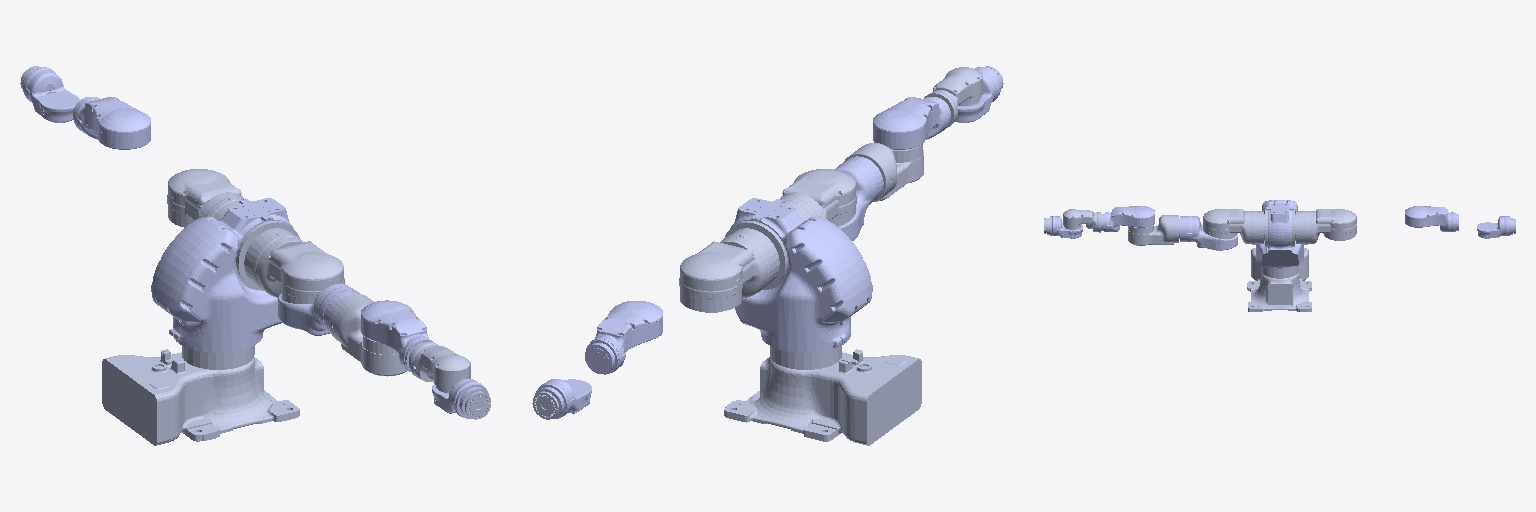
robot.urdf — motoman_sda20d:
<robot
  name="motoman_sda20d">
  <link
    name="base_link">
    <inertial>
      <origin
        xyz="-0.10775 -4.7555E-05 0.10955"
        rpy="0 0 0" />
      <mass
        value="29.711" />
      <inertia
        ixx="0.37202"
        ixy="-0.00060974"
        ixz="-0.024001"
        iyy="0.77862"
        iyz="4.9206E-05"
        izz="0.84078" />
    </inertial>
    <visual>
      <origin
        xyz="0 0 0"
        rpy="0 0 0" />
      <geometry>
        <mesh
          filename="package://motoman_sda20d_support/meshes/base_link.STL" />
      </geometry>
      <material
        name="">
        <color
          rgba="0.79216 0.81961 0.93333 1" />
      </material>
    </visual>
    <collision>
      <origin
        xyz="0 0 0"
        rpy="0 0 0" />
      <geometry>
        <mesh
          filename="package://motoman_sda20d_support/meshes/base_link.STL" />
      </geometry>
    </collision>
  </link>
  <link
    name="torso_link_b1">
    <inertial>
      <origin
        xyz="0.026706 1.1222E-05 0.19713"
        rpy="0 0 0" />
      <mass
        value="36.439" />
      <inertia
        ixx="0.62924"
        ixy="7.5604E-05"
        ixz="-0.065715"
        iyy="0.97273"
        iyz="7.3187E-05"
        izz="0.67513" />
    </inertial>
    <visual>
      <origin
        xyz="0 0 0"
        rpy="0 0 0" />
      <geometry>
        <mesh
          filename="package://motoman_sda20d_support/meshes/torso_link_b1.STL" />
      </geometry>
      <material
        name="">
        <color
          rgba="0.79216 0.81961 1 1" />
      </material>
    </visual>
    <collision>
      <origin
        xyz="0 0 0"
        rpy="0 0 0" />
      <geometry>
        <mesh
          filename="package://motoman_sda20d_support/meshes/torso_link_b1.STL" />
      </geometry>
    </collision>
  </link>
  <joint
    name="torso_joint_b1"
    type="revolute">
    <origin
      xyz="0 0 0.2765"
      rpy="0 0 0" />
    <parent
      link="base_link" />
    <child
      link="torso_link_b1" />
    <axis
      xyz="0 0 1" />
    <limit effort="0" lower="-2.9670" upper="2.9670" velocity="2.4434"/>
  </joint>
  <link
    name="torso_link_b2">
    <inertial>
      <origin

        xyz="0.026706 1.1222E-05 0.19713"

        rpy="0 0 0" />
      <mass

        value="36.439" />
      <inertia

        ixx="0.62924"

        ixy="7.5604E-05"

        ixz="-0.065715"

        iyy="0.97273"

        iyz="7.3187E-05"

        izz="0.67513" />
    </inertial>
    <visual>
      <origin

        xyz="0 0 0"

        rpy="0 0 0" />
      <geometry>
        <mesh

          filename="package://motoman_sda20d_support/meshes/torso_link_b1.STL" />
      </geometry>
      <material

        name="">
        <color

          rgba="0.79216 0.81961 1 1" />
      </material>
    </visual>
    <collision>
      <origin

        xyz="0 0 0"

        rpy="0 0 0" />
      <geometry>
        <mesh
          filename="package://motoman_sda20d_support/meshes/torso_link_b1.STL" />
      </geometry>
    </collision>
  </link>
  <joint
    name="torso_joint_b2"
    type="revolute">
    <origin
      xyz="0 0 0.2765"
      rpy="0 0 0" />
    <parent
      link="base_link" />
    <child
      link="torso_link_b2" />
    <axis
      xyz="0 0 1" />
    <limit effort="0" lower="-2.9670" upper="2.9670" velocity="2.4434"/>
    <mimic joint="torso_joint_b1" multiplier="1" offset="0"/>
  </joint>
  <link
    name="arm_left_link_1_s">
    <inertial>
      <origin
        xyz="-4.4465E-06 0.014517 -0.19101"
        rpy="0 0 0" />
      <mass
        value="12.738" />
      <inertia
        ixx="0.22105"
        ixy="1.8397E-06"
        ixz="-7.8564E-06"
        iyy="0.22442"
        iyz="0.016414"
        izz="0.069643" />
    </inertial>
    <visual>
      <origin
        xyz="0 0 0"
        rpy="0 0 0" />
      <geometry>
        <mesh
          filename="package://motoman_sda20d_support/meshes/arm_left_link_1_s.STL" />
      </geometry>
      <material
        name="">
        <color
          rgba="0.79216 0.81961 0.93333 1" />
      </material>
    </visual>
    <collision>
      <origin
        xyz="0 0 0"
        rpy="0 0 0" />
      <geometry>
        <mesh
          filename="package://motoman_sda20d_support/meshes/arm_left_link_1_s.STL" />
      </geometry>
    </collision>
  </link>
  <joint
    name="arm_left_joint_1_s"
    type="revolute">
    <origin
      xyz="0.149999999999999 0.075 0.2984"
      rpy="1.5707963267949 0 0" />
    <parent
      link="torso_link_b1" />
    <child
      link="arm_left_link_1_s" />
    <axis
      xyz="0 0 1" />
    <limit effort="0" lower="-2.9670" upper="2.9670" velocity="2.4434"/>
  </joint>
  <link
    name="arm_left_link_2_l">
    <inertial>
      <origin
        xyz="0.099179 2.1877E-05 0.0070227"
        rpy="0 0 0" />
      <mass
        value="6.6303" />
      <inertia
        ixx="0.034667"
        ixy="-7.854E-06"
        ixz="-0.0228"
        iyy="0.089109"
        iyz="-5.3344E-06"
        izz="0.091218" />
    </inertial>
    <visual>
      <origin
        xyz="0 0 0"
        rpy="0 0 0" />
      <geometry>
        <mesh
          filename="package://motoman_sda20d_support/meshes/arm_left_link_2_l.STL" />
      </geometry>
      <material
        name="">
        <color
          rgba="0.79216 0.81961 1 1" />
      </material>
    </visual>
    <collision>
      <origin
        xyz="0 0 0"
        rpy="0 0 0" />
      <geometry>
        <mesh
          filename="package://motoman_sda20d_support/meshes/arm_left_link_2_l.STL" />
      </geometry>
    </collision>
  </link>
  <joint
    name="arm_left_joint_2_l"
    type="revolute">
    <origin
      xyz="0 -0.0571 -0.3145"
      rpy="-1.5707963267949 1.5707963267949 0" />
    <parent
      link="arm_left_link_1_s" />
    <child
      link="arm_left_link_2_l" />
    <axis
      xyz="0 0 1" />
    <limit effort="0" lower="-2.9670" upper="2.9670" velocity="2.4434"/>
  </joint>
  <link
    name="arm_left_link_3_e">
    <inertial>
      <origin
        xyz="-2.2325E-06 -0.017232 -0.15134"
        rpy="0 0 0" />
      <mass
        value="7.0076" />
      <inertia
        ixx="0.077721"
        ixy="-1.9693E-08"
        ixz="3.9327E-07"
        iyy="0.075759"
        iyz="-0.0060104"
        izz="0.027096" />
    </inertial>
    <visual>
      <origin
        xyz="0 0 0"
        rpy="0 0 0" />
      <geometry>
        <mesh
          filename="package://motoman_sda20d_support/meshes/arm_left_link_3_e.STL" />
      </geometry>
      <material
        name="">
        <color
          rgba="0.79216 0.81961 0.93333 1" />
      </material>
    </visual>
    <collision>
      <origin
        xyz="0 0 0"
        rpy="0 0 0" />
      <geometry>
        <mesh
          filename="package://motoman_sda20d_support/meshes/arm_left_link_3_e.STL" />
      </geometry>
    </collision>
  </link>
  <joint
    name="arm_left_joint_3_e"
    type="revolute">
    <origin
      xyz="0.2659 0 0.0487700000000001"
      rpy="-1.5707963267949 3.141592654 1.5707963267949" />
    <parent
      link="arm_left_link_2_l" />
    <child
      link="arm_left_link_3_e" />
    <axis
      xyz="0 0 -1" />
    <limit effort="0" lower="-2.9670" upper="2.9670" velocity="2.4434"/>
  </joint>
  <link
    name="arm_left_link_4_u">
    <inertial>
      <origin
        xyz="0.084741 -1.2964E-05 -0.031047"
        rpy="0 0 0" />
      <mass
        value="4.4681" />
      <inertia
        ixx="0.0122"
        ixy="1.1308E-05"
        ixz="-0.006865"
        iyy="0.048201"
        iyz="3.1167E-06"
        izz="0.049778" />
    </inertial>
    <visual>
      <origin
        xyz="0 0 0"
        rpy="0 0 0" />
      <geometry>
        <mesh
          filename="package://motoman_sda20d_support/meshes/arm_left_link_4_u.STL" />
      </geometry>
      <material
        name="">
        <color
          rgba="0.79216 0.81961 1 1" />
      </material>
    </visual>
    <collision>
      <origin
        xyz="0 0 0"
        rpy="0 0 0" />
      <geometry>
        <mesh
          filename="package://motoman_sda20d_support/meshes/arm_left_link_4_u.STL" />
      </geometry>
    </collision>
  </link>
  <joint
    name="arm_left_joint_4_u"
    type="revolute">
    <origin
      xyz="0 0.0494000000000001 -0.2441"
      rpy="1.5707963267949 1.5707963267949 0" />
    <parent
      link="arm_left_link_3_e" />
    <child
      link="arm_left_link_4_u" />
    <axis
      xyz="0 0 1" />
    <limit effort="0" lower="-2.9670" upper="2.9670" velocity="2.4434"/>
  </joint>
  <link
    name="arm_left_link_5_r">
    <inertial>
      <origin
        xyz="-2.7564E-06 0.019217 -0.11684"
        rpy="0 0 0" />
      <mass
        value="2.5196" />
      <inertia
        ixx="0.015437"
        ixy="2.7803E-08"
        ixz="4.3281E-07"
        iyy="0.015087"
        iyz="0.0014717"
        izz="0.0048607" />
    </inertial>
    <visual>
      <origin
        xyz="0 0 0"
        rpy="0 0 0" />
      <geometry>
        <mesh
          filename="package://motoman_sda20d_support/meshes/arm_left_link_5_r.STL" />
      </geometry>
      <material
        name="">
        <color
          rgba="0.79216 0.81961 0.93333 1" />
      </material>
    </visual>
    <collision>
      <origin
        xyz="0 0 0"
        rpy="0 0 0" />
      <geometry>
        <mesh
          filename="package://motoman_sda20d_support/meshes/arm_left_link_5_r.STL" />
      </geometry>
    </collision>
  </link>
  <joint
    name="arm_left_joint_5_r"
    type="revolute">
    <origin
      xyz="0.26425 0 0.00150000000000017"
      rpy="-1.5707963267949 0 1.5707963267949" />
    <parent
      link="arm_left_link_4_u" />
    <child
      link="arm_left_link_5_r" />
    <axis
      xyz="0 0 -1" />
    <limit effort="0" lower="-2.9670" upper="2.9670" velocity="2.4434"/>
  </joint>
  <link
    name="arm_left_link_6_b">
    <inertial>
      <origin
        xyz="0.06511 0.045218 5.3316E-05"
        rpy="0 0 0" />
      <mass
        value="2.1679" />
      <inertia
        ixx="0.0044503"
        ixy="0.0020665"
        ixz="1.1542E-06"
        iyy="0.010743"
        iyz="6.4768E-07"
        izz="0.010568" />
    </inertial>
    <visual>
      <origin
        xyz="0 0 0"
        rpy="0 0 0" />
      <geometry>
        <mesh
          filename="package://motoman_sda20d_support/meshes/arm_left_link_6_b.STL" />
      </geometry>
      <material
        name="">
        <color
          rgba="0.79216 0.81961 1 1" />
      </material>
    </visual>
    <collision>
      <origin
        xyz="0 0 0"
        rpy="0 0 0" />
      <geometry>
        <mesh
          filename="package://motoman_sda20d_support/meshes/arm_left_link_6_b.STL" />
      </geometry>
    </collision>
  </link>
  <joint
    name="arm_left_joint_6_b"
    type="revolute">
    <origin
      xyz="0 0 -0.181"
      rpy="3.14159265358979 1.5707963267949 0" />
    <parent
      link="arm_left_link_5_r" />
    <child
      link="arm_left_link_6_b" />
    <axis
      xyz="0 1 0" />
    <limit effort="0" lower="-2.9670" upper="2.9670" velocity="2.4434"/>
  </joint>
  <link
    name="arm_left_link_7_t">
    <inertial>
      <origin
        xyz="2.14651900161539E-05 5.2991646903866E-08 -0.00782705372905079"
        rpy="0 0 0" />
      <mass
        value="0.107191529942716" />
      <inertia
        ixx="6.53271234573758E-05"
        ixy="-6.14986191809701E-07"
        ixz="1.83404409289748E-08"
        iyy="6.51521999984086E-05"
        iyz="1.79250348726871E-11"
        izz="0.000126203207989527" />
    </inertial>
    <visual>
      <origin
        xyz="0 0 0"
        rpy="0 0 0" />
      <geometry>
        <mesh
          filename="package://motoman_sda20d_support/meshes/arm_left_link_7_t.STL" />
      </geometry>
      <material
        name="">
        <color
          rgba="0.792156862745098 0.819607843137255 0.933333333333333 1" />
      </material>
    </visual>
    <collision>
      <origin
        xyz="0 0 0"
        rpy="0 0 0" />
      <geometry>
        <mesh
          filename="package://motoman_sda20d_support/meshes/arm_left_link_7_t.STL" />
      </geometry>
    </collision>
  </link>
  <joint
    name="arm_left_joint_7_t"
    type="revolute">
    <origin
      xyz="0.16725 0.0277499999999999 0"
      rpy="3.14159265358979 1.5707963267949 0" />
    <parent
      link="arm_left_link_6_b" />
    <child
      link="arm_left_link_7_t" />
    <axis
      xyz="0 0 -1" />
    <limit effort="0" lower="-2.9670" upper="2.9670" velocity="2.4434"/>
  </joint>
  <link
    name="arm_right_link_1_s">
    <inertial>
      <origin
        xyz="-4.4467925373326E-06 0.0145169997471059 -0.191014036213653"
        rpy="0 0 0" />
      <mass
        value="12.7382287673505" />
      <inertia
        ixx="0.22105090709977"
        ixy="1.83944998989813E-06"
        ixz="-7.85642966984562E-06"
        iyy="0.224419543541867"
        iyz="0.0164140835995225"
        izz="0.0696434886719727" />
    </inertial>
    <visual>
      <origin
        xyz="0 0 0"
        rpy="0 0 0" />
      <geometry>
        <mesh
          filename="package://motoman_sda20d_support/meshes/arm_right_link_1_s.STL" />
      </geometry>
      <material
        name="">
        <color
          rgba="0.792156862745098 0.819607843137255 0.933333333333333 1" />
      </material>
    </visual>
    <collision>
      <origin
        xyz="0 0 0"
        rpy="0 0 0" />
      <geometry>
        <mesh
          filename="package://motoman_sda20d_support/meshes/arm_right_link_1_s.STL" />
      </geometry>
    </collision>
  </link>
  <joint
    name="arm_right_joint_1_s"
    type="revolute">
    <origin
      xyz="0.15 -0.075 0.2984"
      rpy="-1.5707963267949 3.141592654 0" />
    <parent
      link="torso_link_b1" />
    <child
      link="arm_right_link_1_s" />
    <axis
      xyz="0 0 -1" />
    <limit effort="0" lower="-2.9670" upper="2.9670" velocity="2.4434"/>
  </joint>
  <link
    name="arm_right_link_2_l">
    <inertial>
      <origin
        xyz="0.099179 2.1879E-05 0.0070227"
        rpy="0 0 0" />
      <mass
        value="6.6303" />
      <inertia
        ixx="0.034667"
        ixy="-7.8564E-06"
        ixz="-0.0228"
        iyy="0.089109"
        iyz="-5.3352E-06"
        izz="0.091218" />
    </inertial>
    <visual>
      <origin
        xyz="0 0 0"
        rpy="0 0 0" />
      <geometry>
        <mesh
          filename="package://motoman_sda20d_support/meshes/arm_right_link_2_l.STL" />
      </geometry>
      <material
        name="">
        <color
          rgba="0.79216 0.81961 1 1" />
      </material>
    </visual>
    <collision>
      <origin
        xyz="0 0 0"
        rpy="0 0 0" />
      <geometry>
        <mesh
          filename="package://motoman_sda20d_support/meshes/arm_right_link_2_l.STL" />
      </geometry>
    </collision>
  </link>
  <joint
    name="arm_right_joint_2_l"
    type="revolute">
    <origin
      xyz="0 -0.0571 -0.3145"
      rpy="-1.5707963267949 1.5707963267949 0" />
    <parent
      link="arm_right_link_1_s" />
    <child
      link="arm_right_link_2_l" />
    <axis
      xyz="0 0 -1" />
    <limit effort="0" lower="-2.9670" upper="2.9670" velocity="2.4434"/>
  </joint>
  <link
    name="arm_right_link_3_e">
    <inertial>
      <origin
        xyz="-2.2337E-06 -0.017232 -0.15134"
        rpy="0 0 0" />
      <mass
        value="7.0076" />
      <inertia
        ixx="0.077721"
        ixy="-1.9006E-08"
        ixz="3.9363E-07"
        iyy="0.075759"
        iyz="-0.0060104"
        izz="0.027096" />
    </inertial>
    <visual>
      <origin
        xyz="0 0 0"
        rpy="0 0 0" />
      <geometry>
        <mesh
          filename="package://motoman_sda20d_support/meshes/arm_right_link_3_e.STL" />
      </geometry>
      <material
        name="">
        <color
          rgba="0.79216 0.81961 0.93333 1" />
      </material>
    </visual>
    <collision>
      <origin
        xyz="0 0 0"
        rpy="0 0 0" />
      <geometry>
        <mesh
          filename="package://motoman_sda20d_support/meshes/arm_right_link_3_e.STL" />
      </geometry>
    </collision>
  </link>
  <joint
    name="arm_right_joint_3_e"
    type="revolute">
    <origin
      xyz="0.2659 0 0.04877"
      rpy="1.5707963267949 0 -1.5707963267949" />
    <parent
      link="arm_right_link_2_l" />
    <child
      link="arm_right_link_3_e" />
    <axis
      xyz="0 0 -1" />
    <limit effort="0" lower="-2.9670" upper="2.9670" velocity="2.4434"/>
  </joint>
  <link
    name="arm_right_link_4_u">
    <inertial>
      <origin
        xyz="0.084741 -1.2965E-05 -0.031047"
        rpy="0 0 0" />
      <mass
        value="4.4681" />
      <inertia
        ixx="0.0122"
        ixy="1.1308E-05"
        ixz="-0.006865"
        iyy="0.048201"
        iyz="3.1168E-06"
        izz="0.049778" />
    </inertial>
    <visual>
      <origin
        xyz="0 0 0"
        rpy="0 0 0" />
      <geometry>
        <mesh
          filename="package://motoman_sda20d_support/meshes/arm_right_link_4_u.STL" />
      </geometry>
      <material
        name="">
        <color
          rgba="0.79216 0.81961 1 1" />
      </material>
    </visual>
    <collision>
      <origin
        xyz="0 0 0"
        rpy="0 0 0" />
      <geometry>
        <mesh
          filename="package://motoman_sda20d_support/meshes/arm_right_link_4_u.STL" />
      </geometry>
    </collision>
  </link>
  <joint
    name="arm_right_joint_4_u"
    type="revolute">
    <origin
      xyz="0 0.0494 -0.2441"
      rpy="1.5707963267949 1.5707963267949 0" />
    <parent
      link="arm_right_link_3_e" />
    <child
      link="arm_right_link_4_u" />
    <axis
      xyz="0 0 1" />
    <limit effort="0" lower="-2.9670" upper="2.9670" velocity="2.4434"/>
  </joint>
  <link
    name="arm_right_link_5_r">
    <inertial>
      <origin
        xyz="-2.75635516211459E-06 0.0192169669460178 -0.116837512354688"
        rpy="0 0 0" />
      <mass
        value="2.51962025325968" />
      <inertia
        ixx="0.0154365373372443"
        ixy="2.78033455944647E-08"
        ixz="4.32809858861873E-07"
        iyy="0.015086966417095"
        iyz="0.00147166738190943"
        izz="0.00486066933215364" />
    </inertial>
    <visual>
      <origin
        xyz="0 0 0"
        rpy="0 0 0" />
      <geometry>
        <mesh
          filename="package://motoman_sda20d_support/meshes/arm_right_link_5_r.STL" />
      </geometry>
      <material
        name="">
        <color
          rgba="0.792156862745098 0.819607843137255 0.933333333333333 1" />
      </material>
    </visual>
    <collision>
      <origin
        xyz="0 0 0"
        rpy="0 0 0" />
      <geometry>
        <mesh
          filename="package://motoman_sda20d_support/meshes/arm_right_link_5_r.STL" />
      </geometry>
    </collision>
  </link>
  <joint
    name="arm_right_joint_5_r"
    type="revolute">
    <origin
      xyz="0.26425 0 0.0015"
      rpy="-1.5707963267949 0 1.5707963267949" />
    <parent
      link="arm_right_link_4_u" />
    <child
      link="arm_right_link_5_r" />
    <axis
      xyz="0 0 -1" />
    <limit effort="0" lower="-2.9670" upper="2.9670" velocity="2.4434"/>
  </joint>
  <link
    name="arm_right_link_6_b">
    <inertial>
      <origin
        xyz="0.06511 -5.3316E-05 0.013468"
        rpy="0 0 0" />
      <mass
        value="2.1679" />
      <inertia
        ixx="0.0044503"
        ixy="-1.1542E-06"
        ixz="0.0020665"
        iyy="0.010568"
        iyz="-6.4768E-07"
        izz="0.010743" />
    </inertial>
    <visual>
      <origin
        xyz="0 0 0"
        rpy="0 0 0" />
      <geometry>
        <mesh
          filename="package://motoman_sda20d_support/meshes/arm_right_link_6_b.STL" />
      </geometry>
      <material
        name="">
        <color
          rgba="0.79216 0.81961 1 1" />
      </material>
    </visual>
    <collision>
      <origin
        xyz="0 0 0"
        rpy="0 0 0" />
      <geometry>
        <mesh
          filename="package://motoman_sda20d_support/meshes/arm_right_link_6_b.STL" />
      </geometry>
    </collision>
  </link>
  <joint
    name="arm_right_joint_6_b"
    type="revolute">
    <origin
      xyz="0 -0.0317499999999999 -0.181"
      rpy="1.5707963267949 1.5707963267949 0" />
    <parent
      link="arm_right_link_5_r" />
    <child
      link="arm_right_link_6_b" />
    <axis
      xyz="0 0 1" />
    <limit effort="0" lower="-2.9670" upper="2.9670" velocity="2.4434"/>
  </joint>
  <link
    name="arm_right_link_7_t">
    <inertial>
      <origin
        xyz="2.1465E-05 5.2992E-08 -0.0078271"
        rpy="0 0 0" />
      <mass
        value="0.10719" />
      <inertia
        ixx="6.5327E-05"
        ixy="-6.1499E-07"
        ixz="1.834E-08"
        iyy="6.5152E-05"
        iyz="1.7925E-11"
        izz="0.0001262" />
    </inertial>
    <visual>
      <origin
        xyz="0 0 0"
        rpy="0 0 0" />
      <geometry>
        <mesh
          filename="package://motoman_sda20d_support/meshes/arm_right_link_7_t.STL" />
      </geometry>
      <material
        name="">
        <color
          rgba="0.79216 0.81961 0.93333 1" />
      </material>
    </visual>
    <collision>
      <origin
        xyz="0 0 0"
        rpy="0 0 0" />
      <geometry>
        <mesh
          filename="package://motoman_sda20d_support/meshes/arm_right_link_7_t.STL" />
      </geometry>
    </collision>
  </link>
  <joint
    name="arm_right_joint_7_t"
    type="revolute">
    <origin
      xyz="0.16725 0 -0.004"
      rpy="-1.5707963267949 0 1.5707963267949" />
    <parent
      link="arm_right_link_6_b" />
    <child
      link="arm_right_link_7_t" />
    <axis
      xyz="0 0 -1" />
    <limit effort="0" lower="-2.9670" upper="2.9670" velocity="2.4434"/>
  </joint>
</robot>

--- Facts derived from the render (not from the file) ---
Views: 3 orthographic renders of the robot side by side, from view 1: azimuth 30°, elevation 25°; view 2: azimuth 150°, elevation 25°; view 3: azimuth 270°, elevation 25°.
Model motoman_sda20d with 17 links and 16 joints (16 revolute), rooted at base_link, posed every joint at zero.
Links seen in each view (by area): view 1: base_link, torso_link_b1, arm_right_link_1_s, arm_left_link_1_s, arm_left_link_4_u, arm_right_link_3_e, arm_right_link_4_u, arm_left_link_6_b, arm_right_link_5_r, arm_right_link_2_l, arm_right_link_6_b, arm_right_link_7_t; view 2: base_link, torso_link_b1, arm_left_link_1_s, arm_left_link_4_u, arm_right_link_1_s, arm_right_link_4_u, arm_right_link_3_e, arm_right_link_2_l, arm_right_link_5_r, arm_left_link_6_b, arm_right_link_6_b, arm_left_link_7_t; view 3: base_link, torso_link_b1, arm_left_link_1_s, arm_right_link_1_s, arm_right_link_3_e, arm_left_link_4_u, arm_right_link_4_u, arm_right_link_2_l, arm_right_link_5_r, arm_left_link_6_b.
Link boxes in pixels (x1,y1,x2,y2): base_link: (102,345,299,445); torso_link_b1: (151,198,293,352); arm_right_link_1_s: (236,221,344,304); arm_left_link_1_s: (167,169,243,227); arm_left_link_4_u: (73,97,150,149); arm_right_link_3_e: (329,294,407,376); arm_right_link_4_u: (361,300,432,371); arm_left_link_6_b: (22,67,79,122); arm_right_link_5_r: (409,342,470,392); arm_right_link_2_l: (278,284,359,335); arm_right_link_6_b: (432,379,488,418); arm_right_link_7_t: (465,391,490,419); base_link: (724,346,921,445); torso_link_b1: (730,198,872,352); arm_left_link_1_s: (679,221,787,312); arm_left_link_4_u: (585,301,662,374); arm_right_link_1_s: (780,169,856,226); arm_right_link_4_u: (873,97,950,149); arm_right_link_3_e: (844,143,923,201); arm_right_link_2_l: (834,156,883,240); arm_right_link_5_r: (924,67,982,127); arm_left_link_6_b: (535,379,591,418); arm_right_link_6_b: (955,67,1001,122); arm_left_link_7_t: (532,391,558,419); base_link: (1247,248,1311,311); torso_link_b1: (1256,200,1303,269); arm_left_link_1_s: (1292,209,1356,246); arm_right_link_1_s: (1203,209,1267,246); arm_right_link_3_e: (1128,215,1178,245); arm_left_link_4_u: (1405,206,1458,231); arm_right_link_4_u: (1101,206,1154,231); arm_right_link_2_l: (1179,216,1237,250); arm_right_link_5_r: (1063,209,1100,232); arm_left_link_6_b: (1477,216,1512,238).
Size in the robot's own frame: 0.6384 by 3.06 by 0.7149 metres.
14 mesh visuals loaded from 16 distinct referenced files (13 binary STL); not drawn: 3 (reference not matched to a file when rendering).